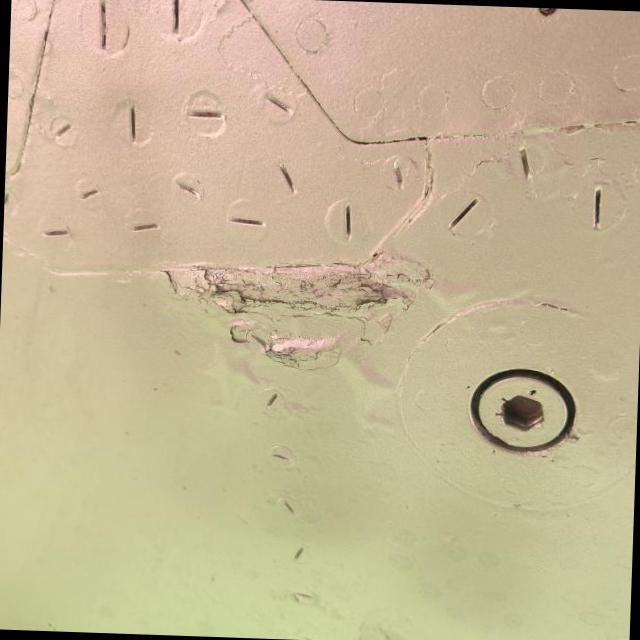Paint-off: (163, 255, 431, 370)
